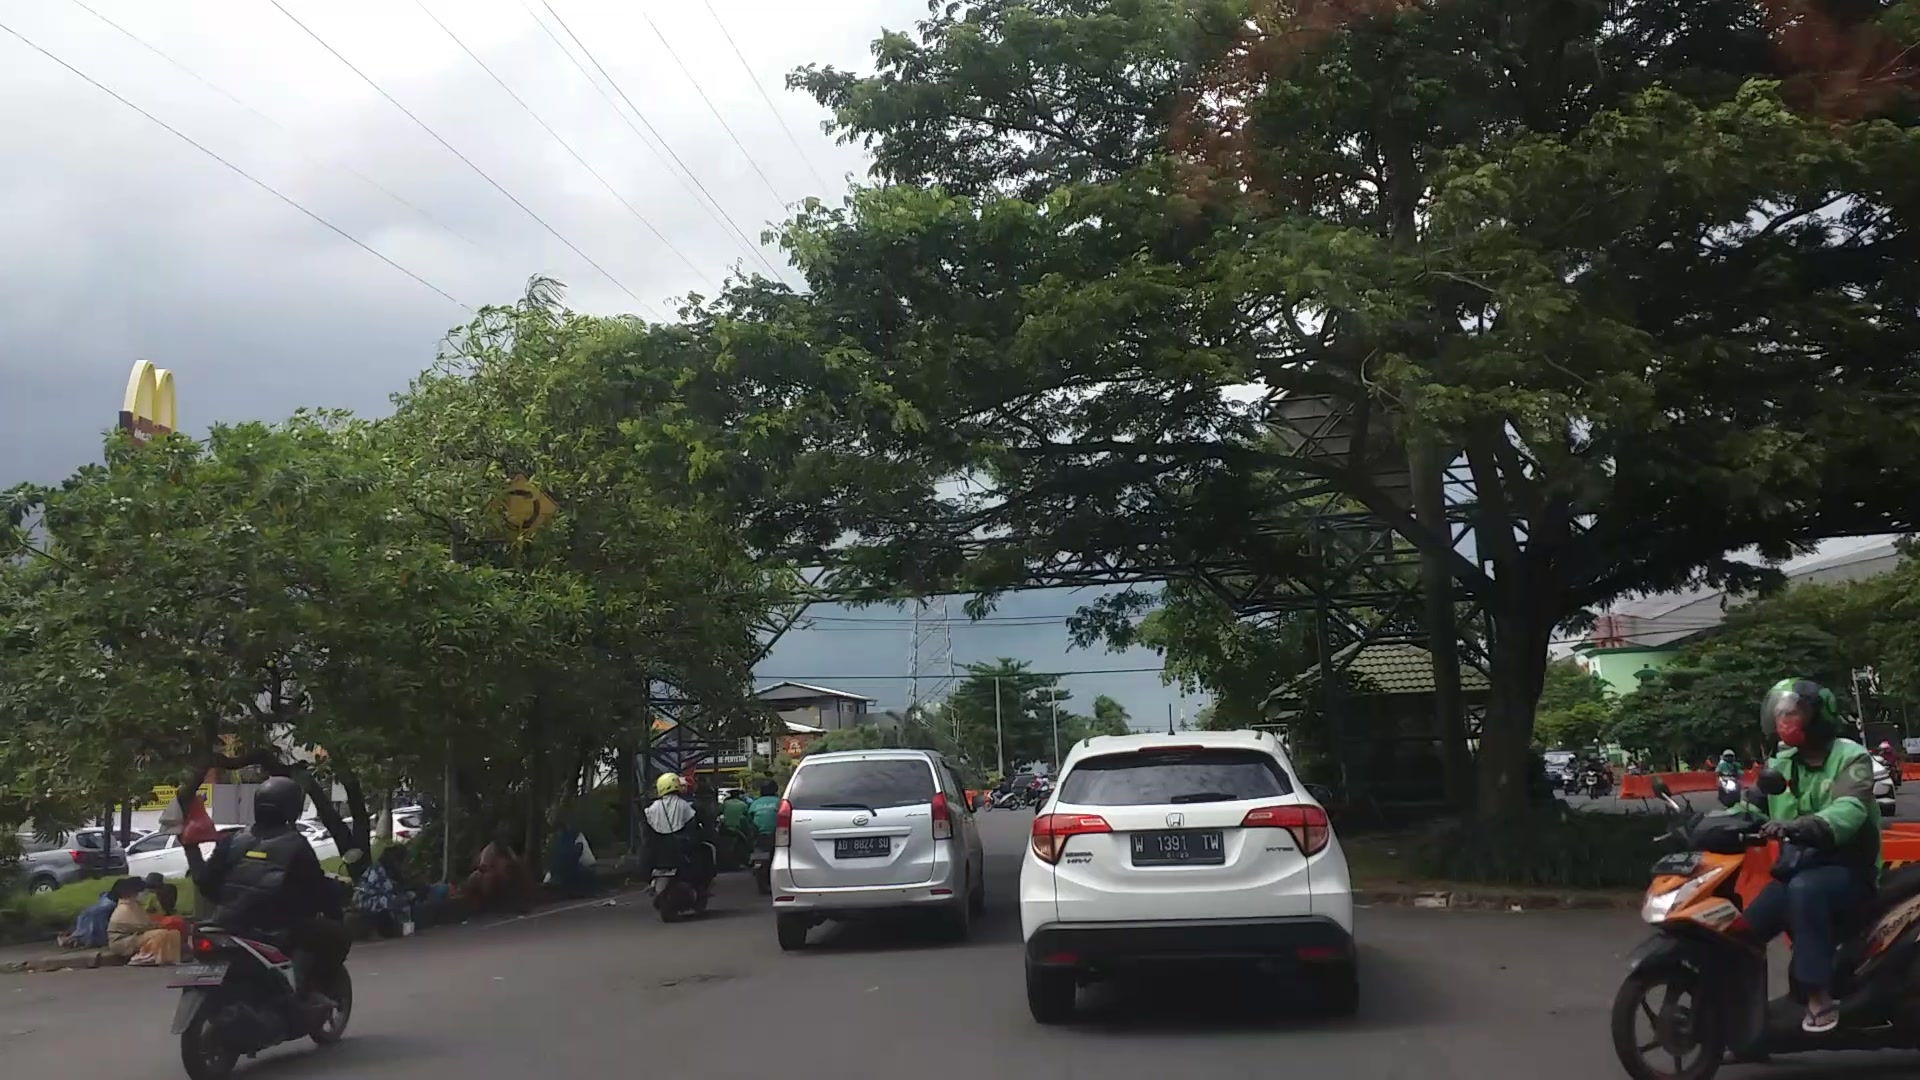plate_positive: (1131, 831, 1225, 865), (835, 839, 890, 858)
